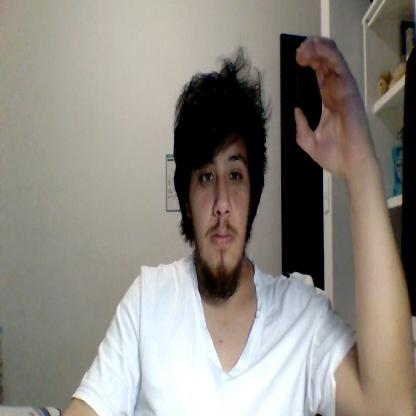C: (295, 35, 374, 172)
